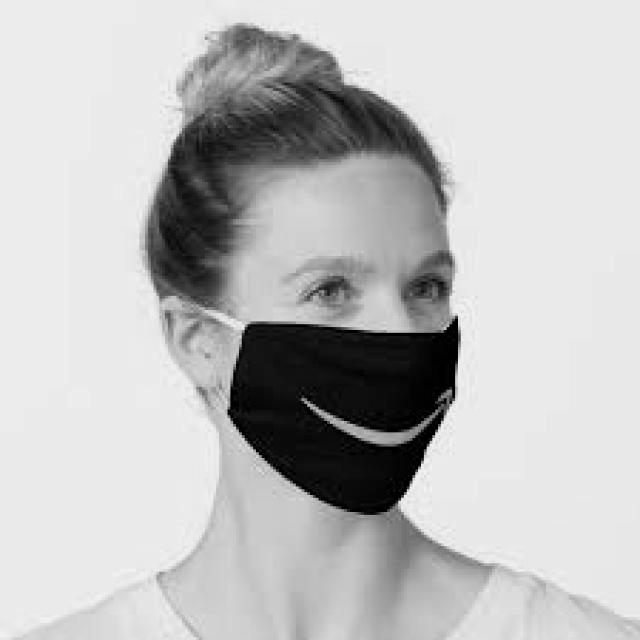fake: (146, 284, 508, 542)
real: (227, 155, 459, 530)
